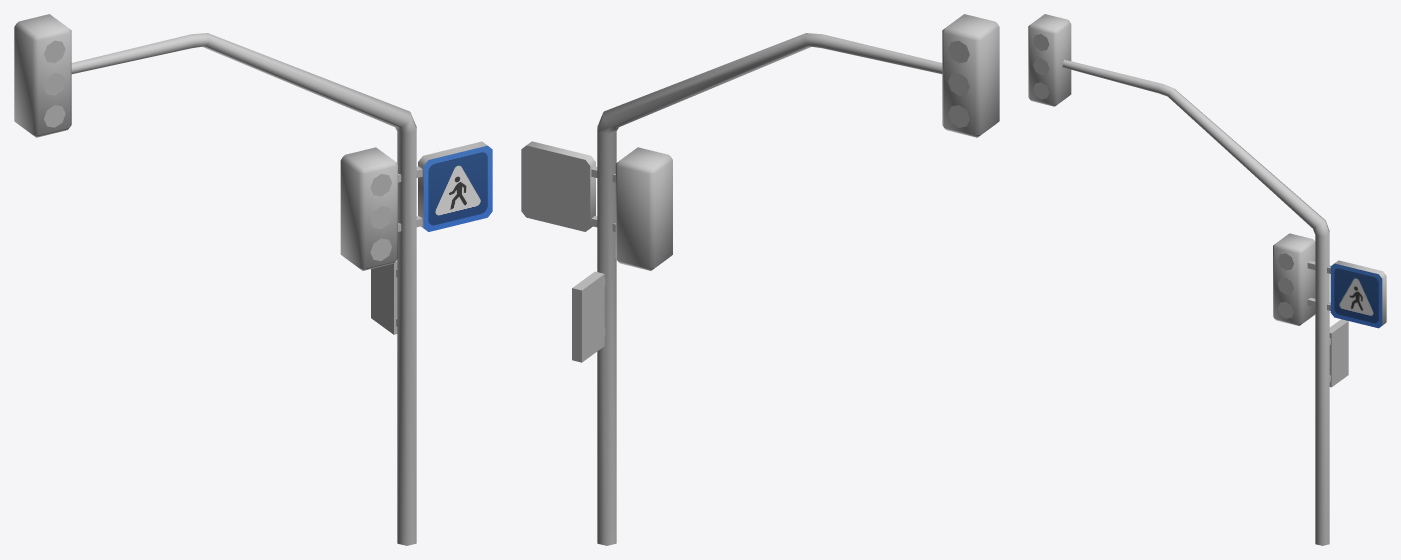
File: traffic_light_002.fbx
3 views of the same model, side by side, from view 1: azimuth 30°, elevation 25°; view 2: azimuth 150°, elevation 25°; view 3: azimuth 330°, elevation 25° (orthographic). The views are drawn at different scales.
Parts seen in each view (by area): view 1: traffic_light_002; view 2: traffic_light_002; view 3: traffic_light_002.
Boxes of the visible parts, x1,y1,x2,y2 form: traffic_light_002: (14,14,492,545); traffic_light_002: (521,14,999,545); traffic_light_002: (1028,14,1386,545).
Size of the model in its own units: 473 by 73.94 by 588.
